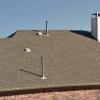Chimney: (88, 8, 99, 59)
